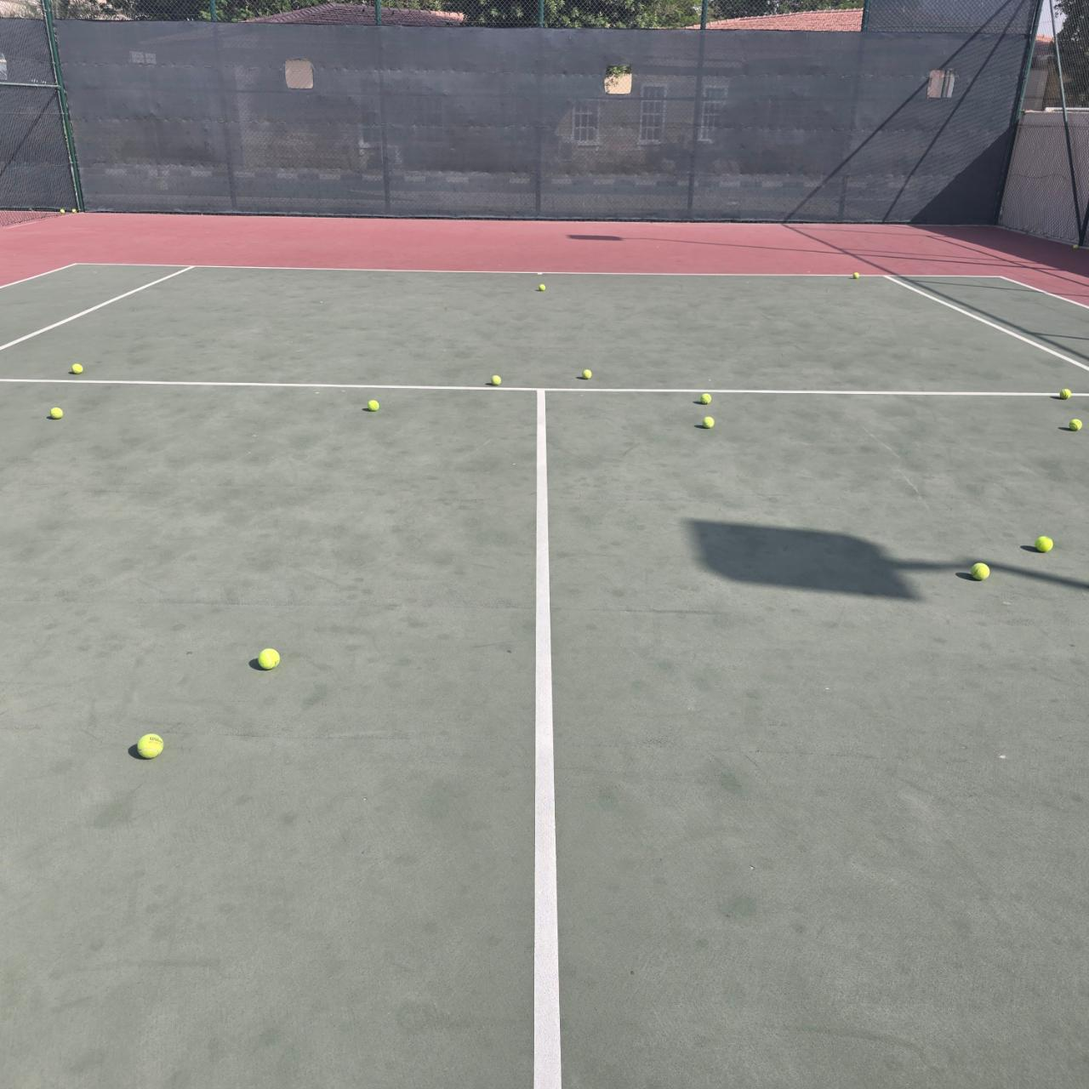tennis-ball: (135, 731, 163, 758), (256, 645, 280, 670), (969, 560, 989, 580), (1035, 533, 1053, 552), (701, 414, 715, 428), (1069, 418, 1082, 431), (49, 407, 63, 419), (367, 399, 380, 411), (1059, 389, 1071, 400), (490, 375, 501, 386), (700, 393, 711, 404), (71, 363, 83, 373), (582, 369, 592, 379), (539, 284, 545, 291), (853, 272, 860, 278)
